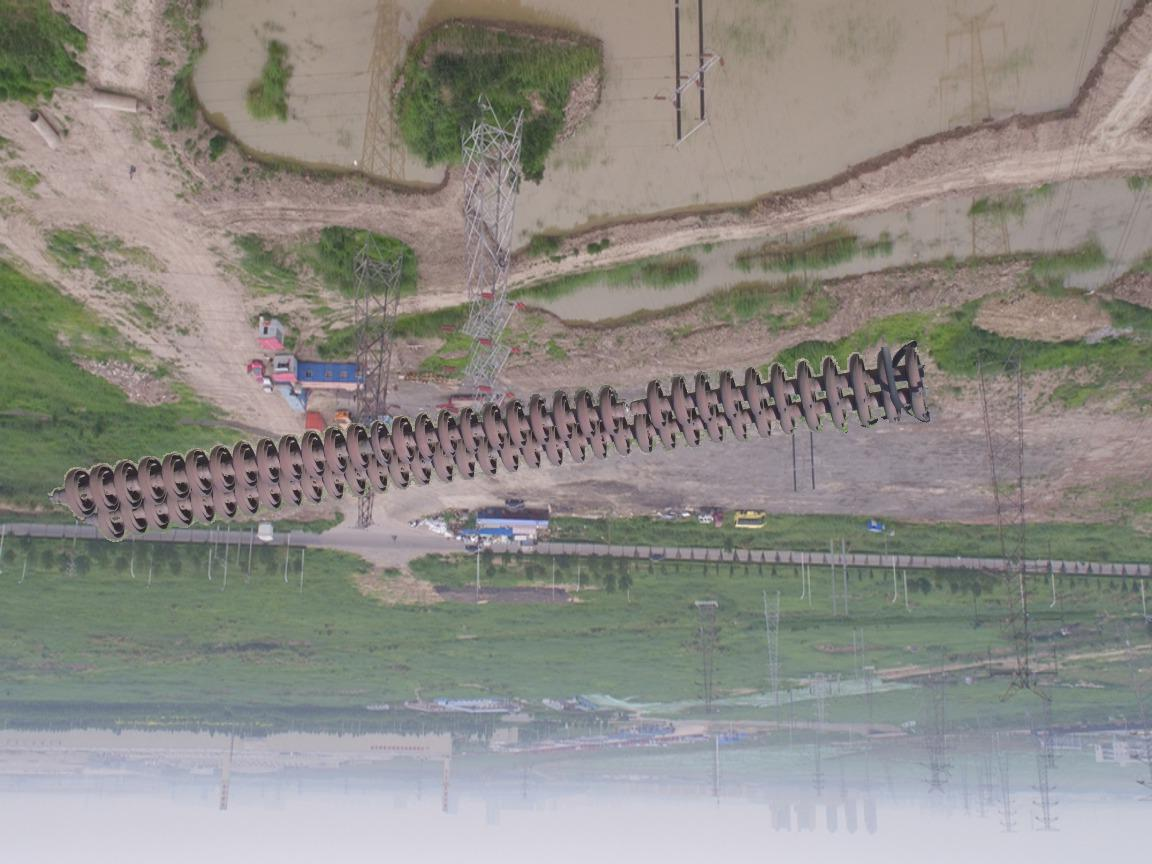insulator: (56, 339, 935, 549)
insulator_stringdrop: (596, 376, 667, 436)
